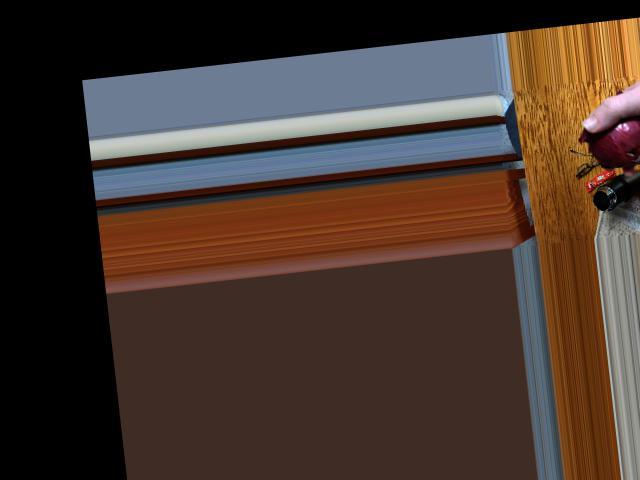onion: (592, 106, 640, 168)
